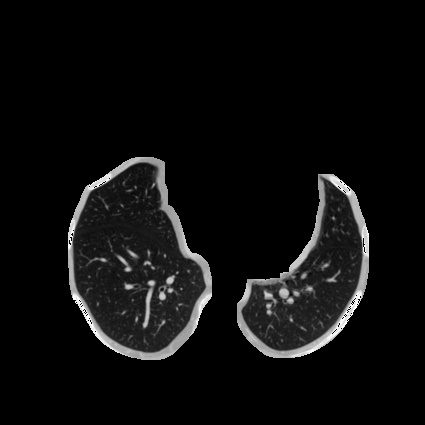PN: (278, 287, 290, 299)
